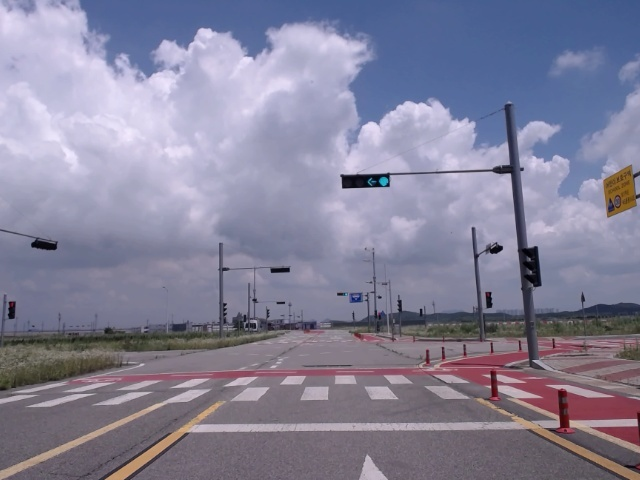all_green_4: (342, 177, 389, 187)
